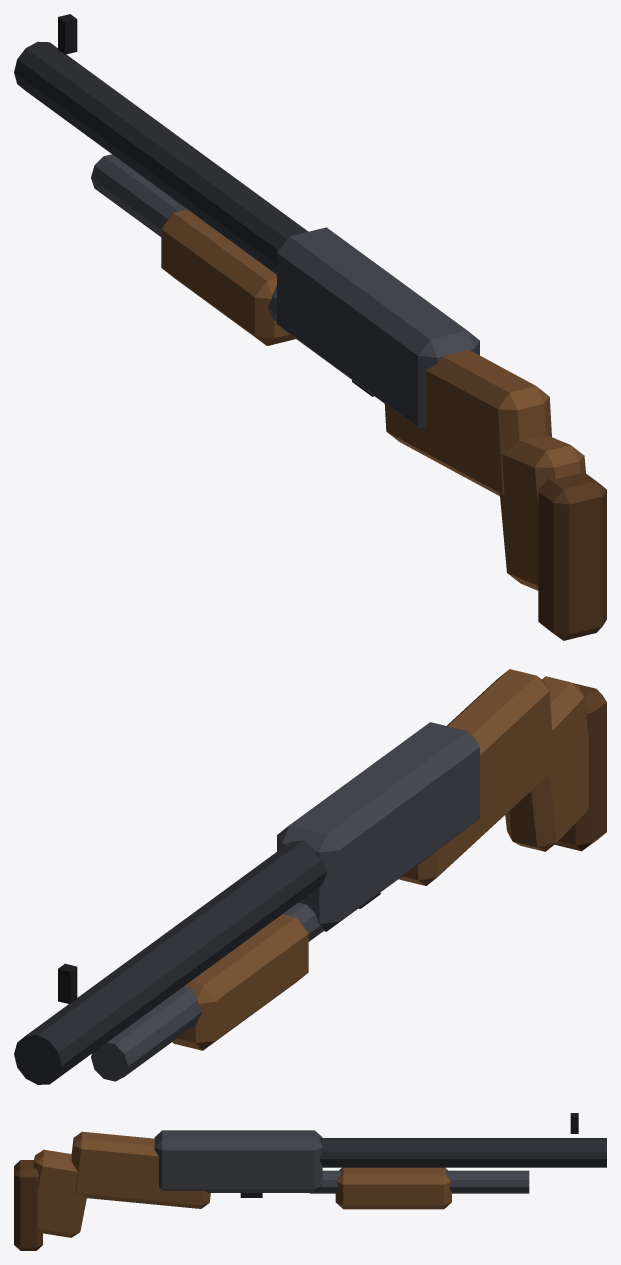
The model's file is wep_shotgun.glb.
The picture shows the model from 3 angles, top to bottom: view 1: azimuth 30°, elevation 25°; view 2: azimuth 150°, elevation 25°; view 3: azimuth 270°, elevation 25°; orthographic projection. The views are drawn at different scales.
Parts seen in each view (by area): view 1: wep_shotgun; view 2: wep_shotgun; view 3: wep_shotgun.
Boxes of the visible parts, x1=… form: wep_shotgun: x1=14, y1=14, x2=606, y2=640; wep_shotgun: x1=14, y1=669, x2=606, y2=1084; wep_shotgun: x1=14, y1=1113, x2=606, y2=1250.
Size of the model in its own units: 0.06 by 0.225 by 0.9175.
